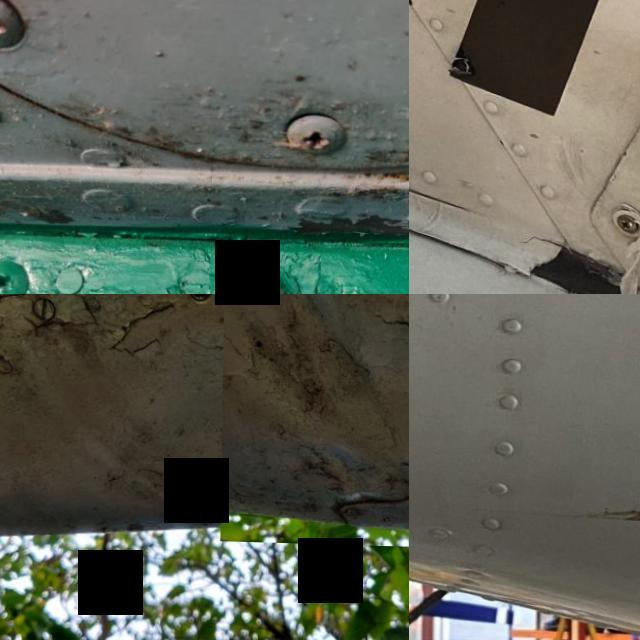Dent: (221, 294, 409, 545)
Missing_Fastener: (210, 247, 321, 294), (176, 294, 229, 315)
